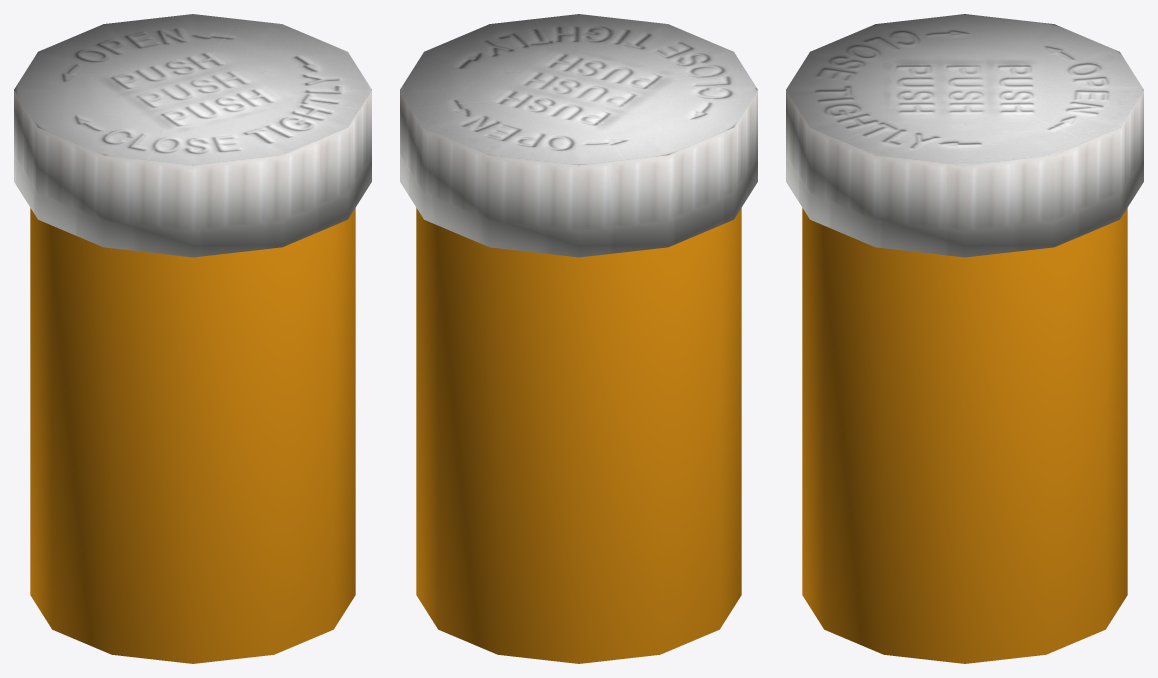
File: model_pills.obj
3 renders of one model, left to right at view 1: azimuth 30°, elevation 25°; view 2: azimuth 150°, elevation 25°; view 3: azimuth 270°, elevation 25°, orthographic.
Visible parts, largest first — view 1: pills pills_exterior, pills pills_cap; view 2: pills pills_exterior, pills pills_cap; view 3: pills pills_exterior, pills pills_cap.
Boxes of the visible parts, x1,y1,x2,y2 form: pills pills_exterior: [30, 208, 355, 663]; pills pills_cap: [14, 14, 371, 257]; pills pills_exterior: [416, 208, 741, 663]; pills pills_cap: [400, 14, 757, 257]; pills pills_exterior: [802, 208, 1127, 663]; pills pills_cap: [786, 14, 1143, 257].
Size of the model in its own units: 2.54 by 3.96 by 2.54.
